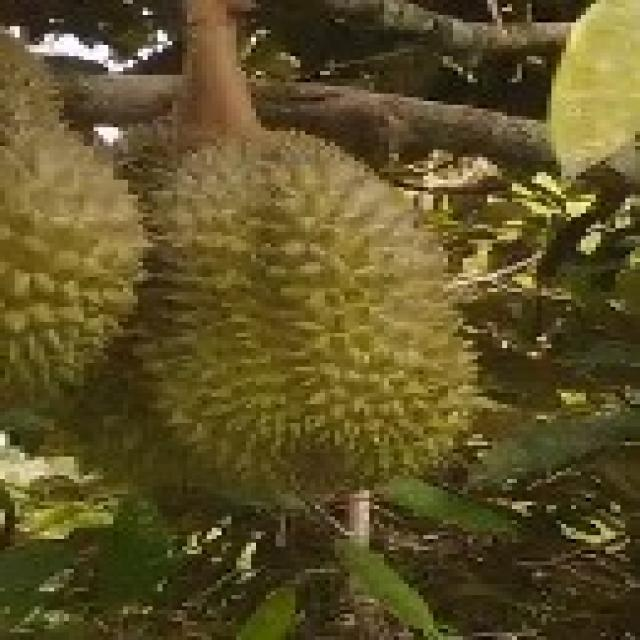immature: (119, 125, 486, 498)
